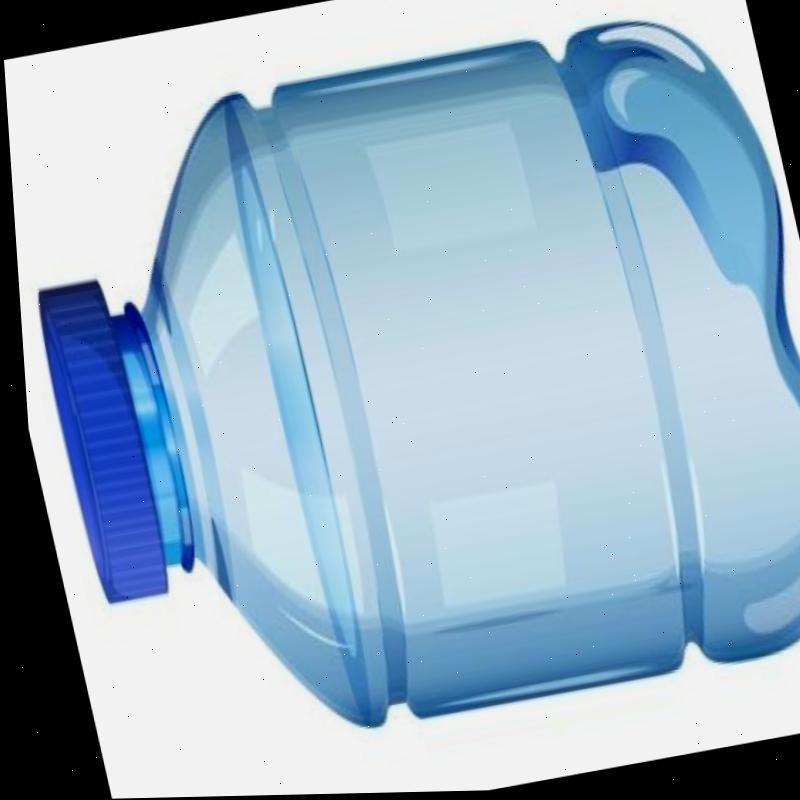botella: (0, 0, 800, 780)
